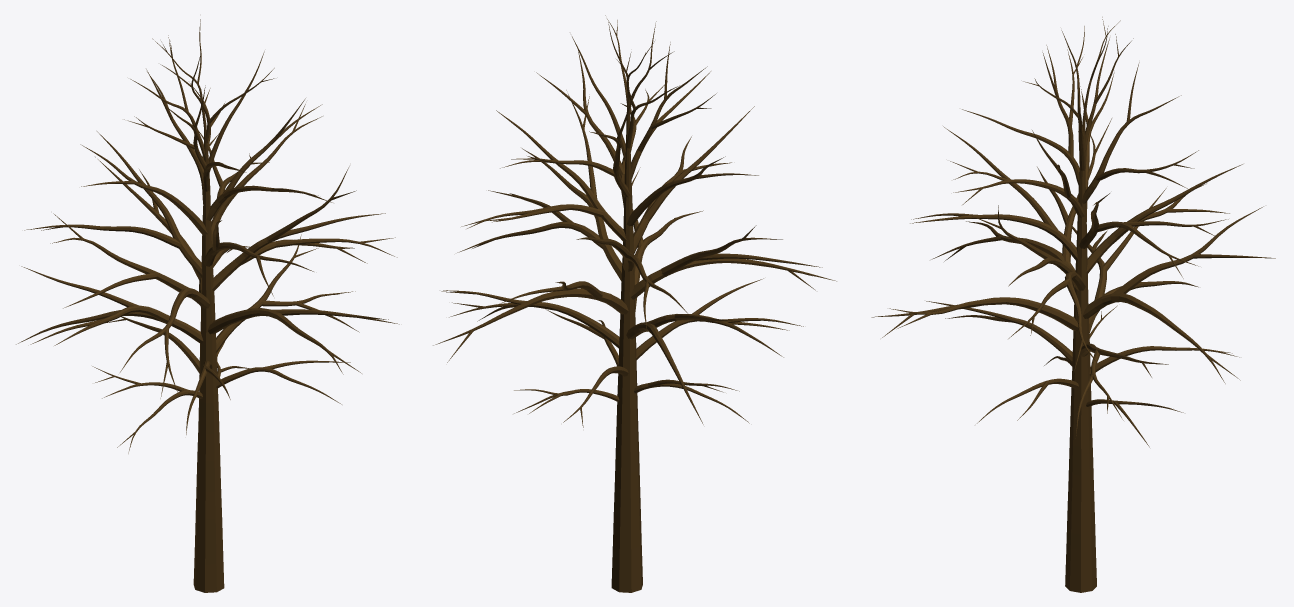
Rendered from drySimpleTree.fbx.
The picture shows the model from 3 angles, left to right: view 1: azimuth 30°, elevation 25°; view 2: azimuth 150°, elevation 25°; view 3: azimuth 270°, elevation 25°; orthographic projection. The views are drawn at different scales.
Parts seen in each view (by area): view 1: drySimpleTree; view 2: drySimpleTree; view 3: drySimpleTree.
Boxes of the visible parts, x1,y1,x2,y2 form: drySimpleTree: [16, 19, 399, 592]; drySimpleTree: [433, 15, 836, 592]; drySimpleTree: [871, 17, 1275, 592].
Bounding box in the file's own units: 351 × 566 × 373.
